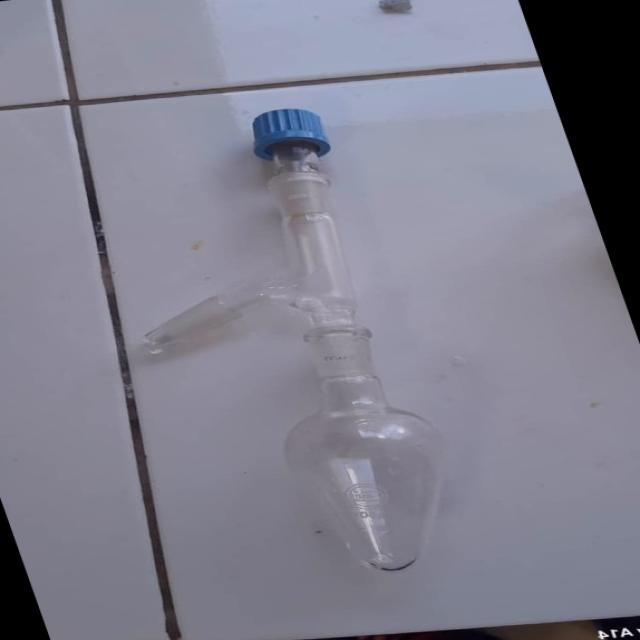Distillation: (41, 85, 570, 604)
